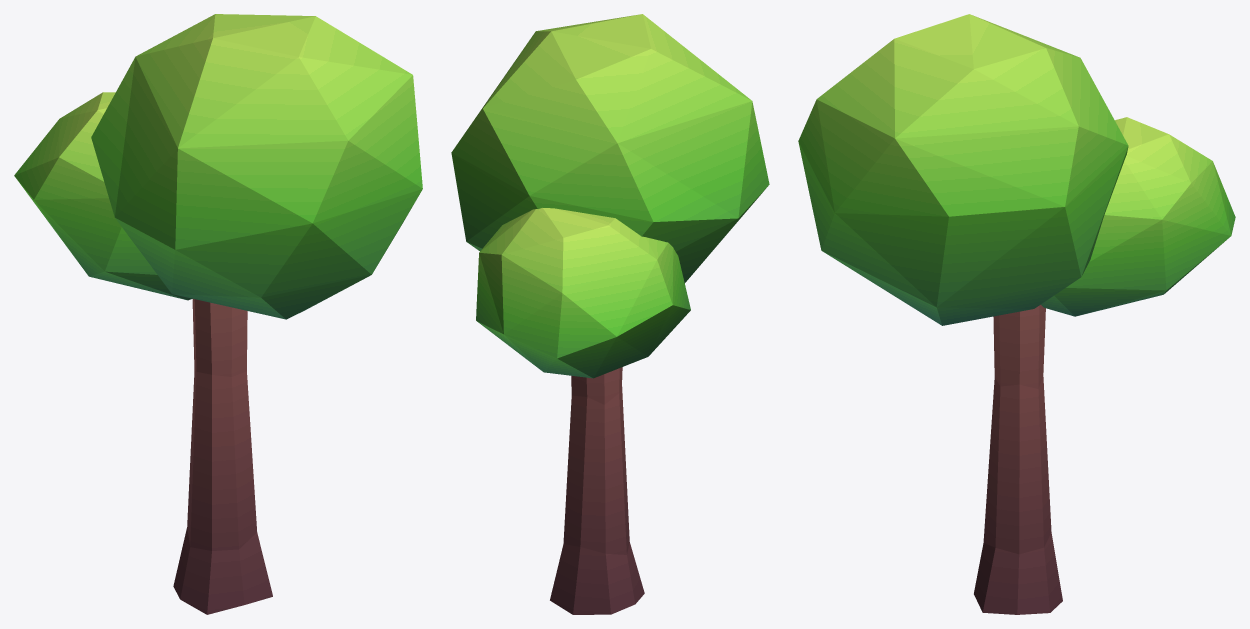
File: Green_D.glb
The picture shows the model from 3 angles, left to right: view 1: azimuth 30°, elevation 25°; view 2: azimuth 150°, elevation 25°; view 3: azimuth 270°, elevation 25°; orthographic projection. The views are drawn at different scales.
Visible parts, largest first — view 1: Green_Leaves1_D, Green_Trunk_D, Green_Leaves2_D; view 2: Green_Leaves1_D, Green_Leaves2_D, Green_Trunk_D; view 3: Green_Leaves1_D, Green_Leaves2_D, Green_Trunk_D.
Part boxes in pixels (<box>): Green_Leaves1_D: <box>91,14,422,319</box>; Green_Trunk_D: <box>173,299,272,614</box>; Green_Leaves2_D: <box>14,92,192,300</box>; Green_Leaves1_D: <box>451,14,769,283</box>; Green_Leaves2_D: <box>476,208,690,378</box>; Green_Trunk_D: <box>550,367,644,614</box>; Green_Leaves1_D: <box>798,14,1128,325</box>; Green_Leaves2_D: <box>1041,117,1235,316</box>; Green_Trunk_D: <box>974,304,1062,614</box>.
Size of the model in its own units: 1.79 by 3.49 by 2.43.
1 material, 1 textured.
